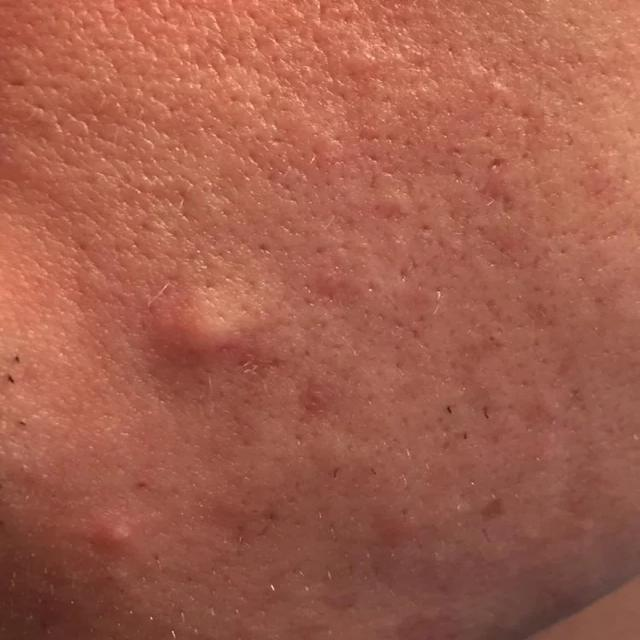nodule: (146, 296, 246, 361)
